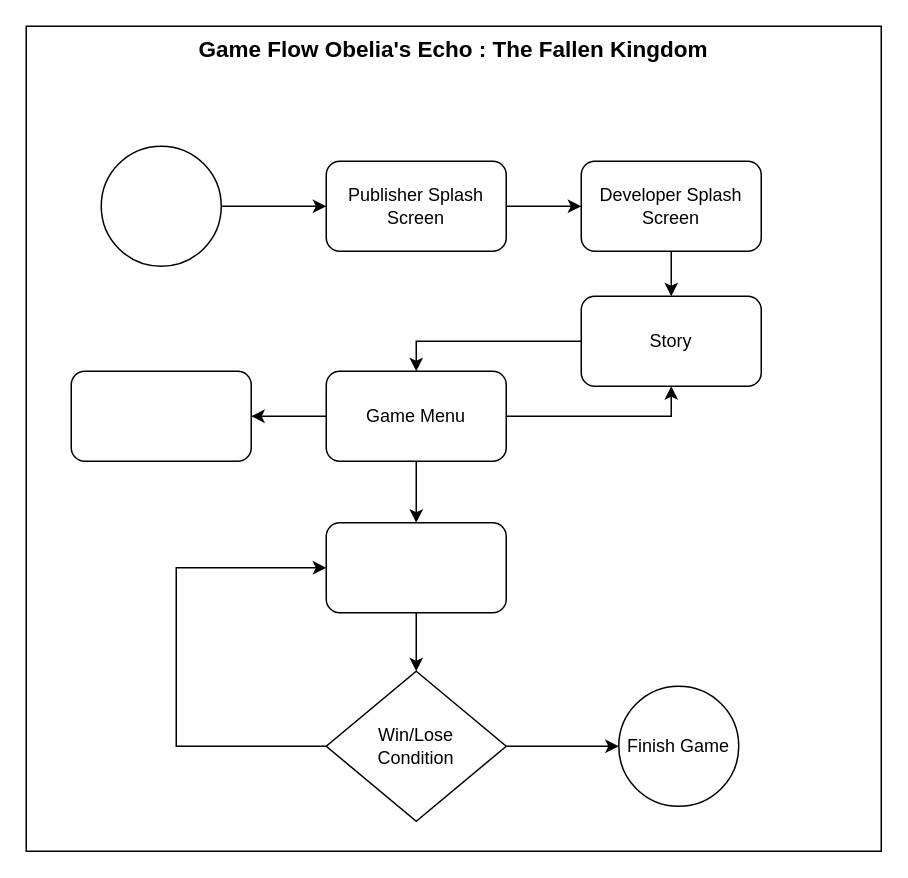
The diagram is 908 pixels wide and 878 high, and some of its shapes have lost their labels. The box of each missing label's shape, as (x1, y1, x2, y2) in pixels:
Game Play: (325, 521, 506, 613)
Out: (70, 370, 251, 461)
Start Game: (100, 145, 221, 266)
